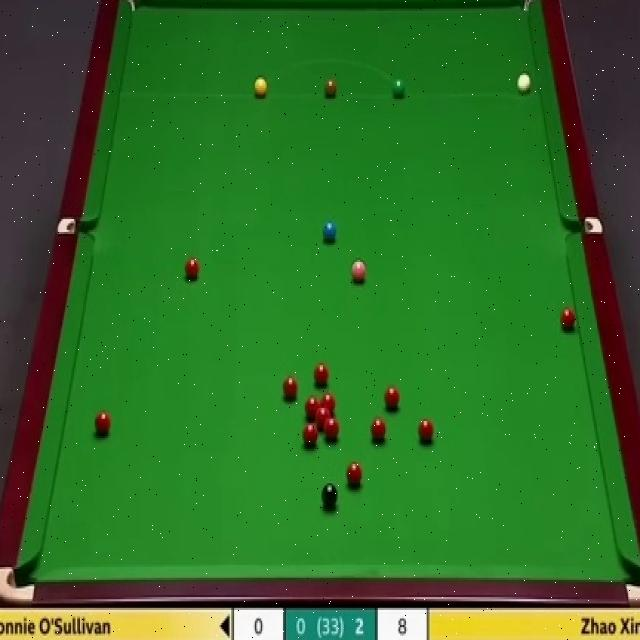black-ball: (322, 481, 339, 510)
blue-ball: (322, 220, 338, 244)
brown-ball: (324, 77, 337, 98)
green-ball: (391, 76, 405, 98)
pink-ball: (348, 260, 369, 290)
red-ball: (559, 306, 578, 336), (344, 460, 364, 488), (93, 410, 111, 436), (383, 385, 401, 411), (281, 376, 298, 403), (183, 258, 202, 282), (369, 418, 386, 444), (418, 419, 434, 445), (323, 419, 339, 442), (319, 392, 336, 413), (302, 424, 318, 446), (304, 399, 320, 421), (314, 364, 329, 387), (316, 408, 330, 427)
white-ball: (514, 70, 534, 96)
yellow-ball: (254, 78, 268, 99)
